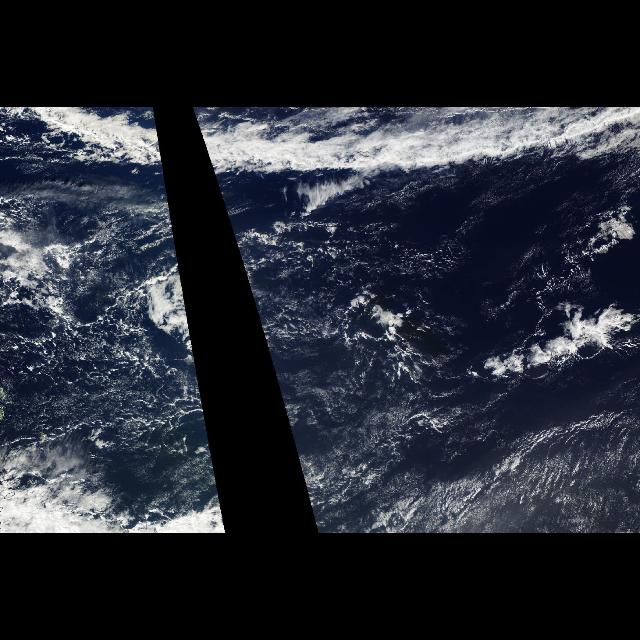Gravel: (216, 180, 630, 426), (82, 180, 210, 426)
Sugar: (290, 416, 638, 528), (10, 350, 184, 442)
